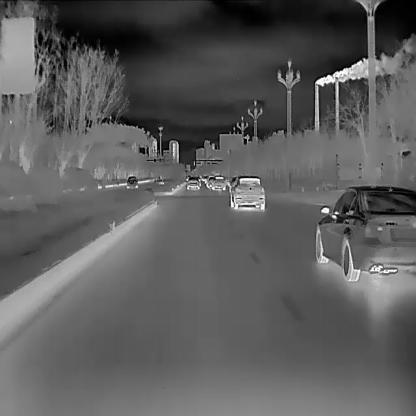car: (314, 184, 415, 283), (229, 176, 264, 209), (210, 175, 226, 190), (186, 177, 199, 190), (126, 175, 137, 188)
